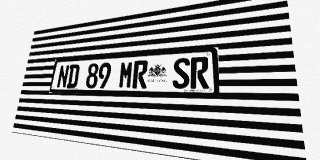8: (85, 63, 100, 88)
9: (97, 62, 112, 88)
D: (66, 64, 80, 88)
M: (118, 61, 134, 88)
N: (56, 65, 70, 88)
R: (190, 56, 209, 89), (132, 60, 148, 88)
S: (172, 57, 190, 89)
